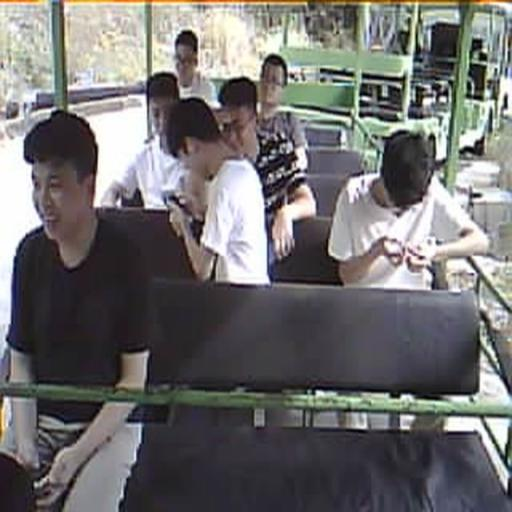persona: (1, 108, 153, 510), (327, 127, 490, 290), (211, 76, 318, 269), (164, 96, 272, 287), (252, 53, 318, 265), (100, 71, 188, 211), (171, 29, 218, 103)
